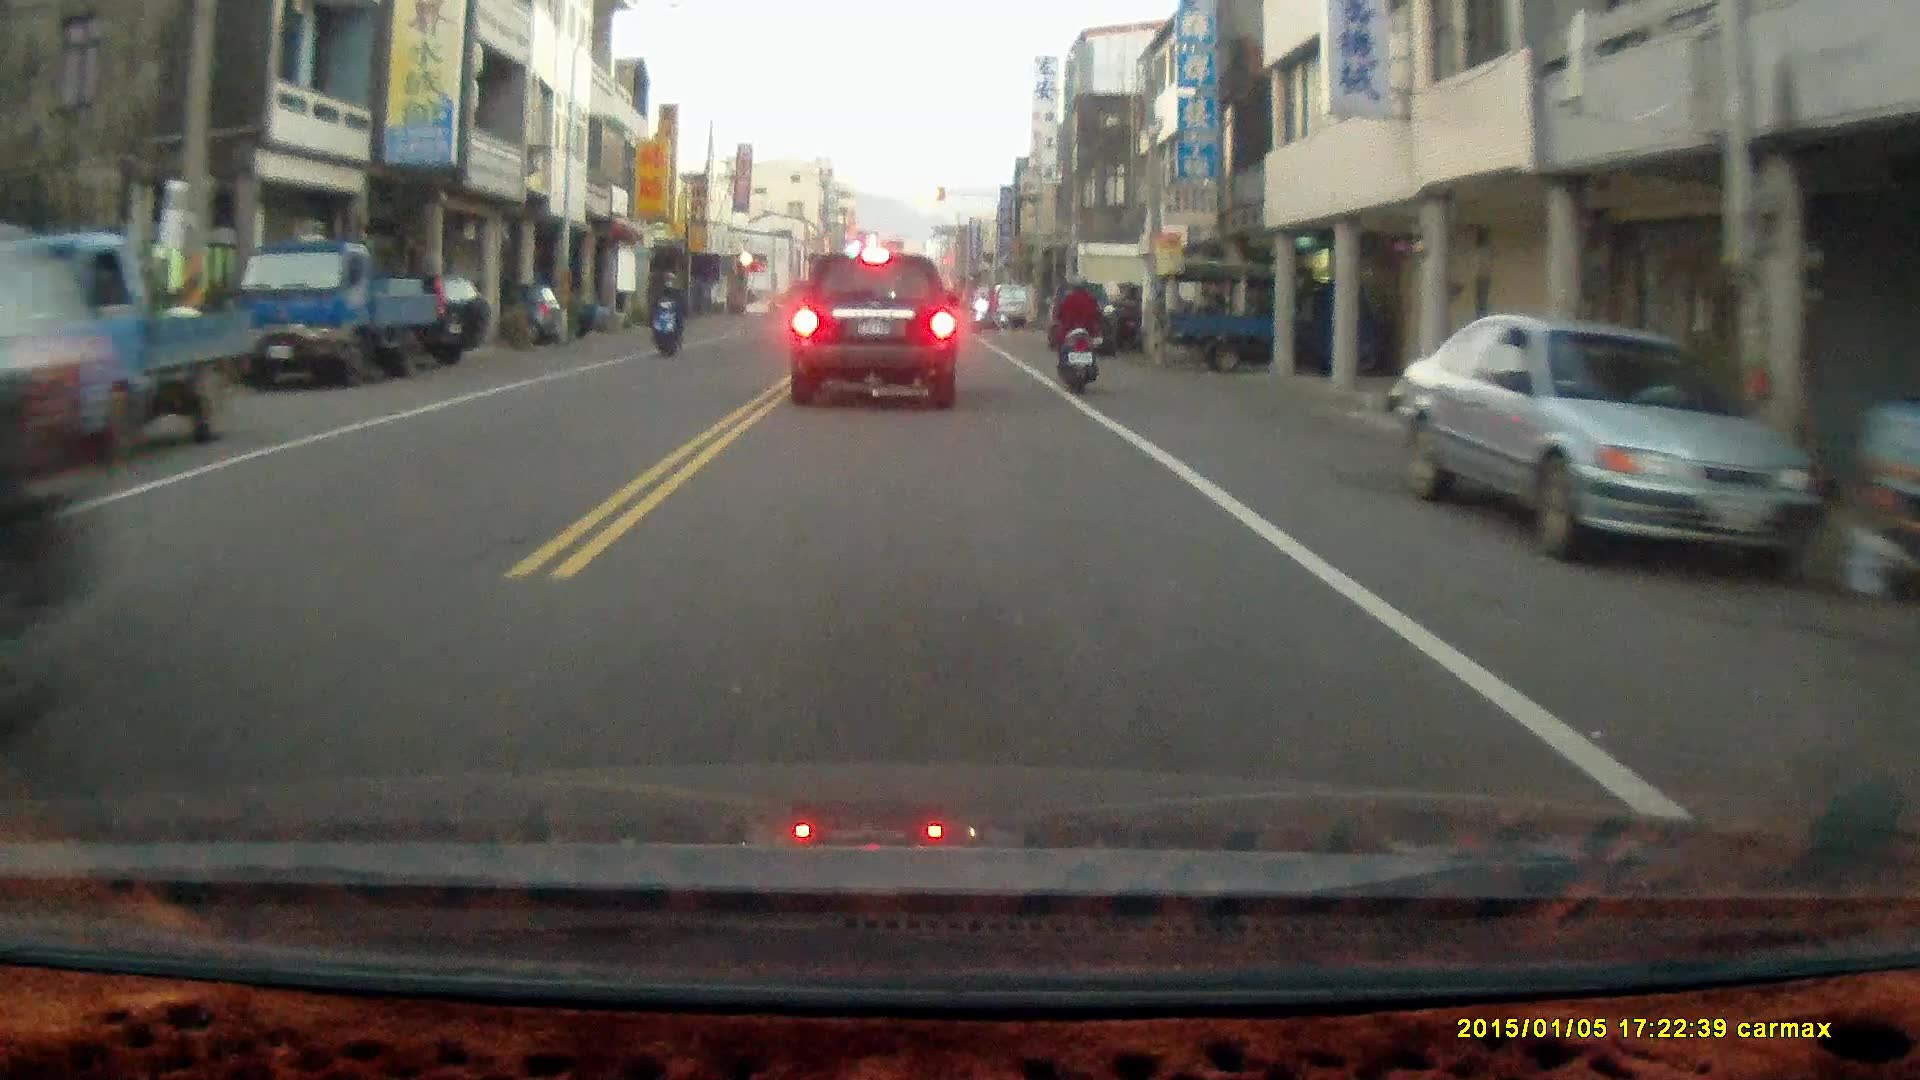rider: (1051, 273, 1101, 396), (647, 268, 688, 358), (969, 281, 1008, 330)
vehicle: (1394, 314, 1834, 584), (1, 234, 254, 470), (1158, 259, 1406, 379), (239, 245, 438, 386), (790, 254, 960, 411)
